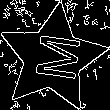M_W: (24, 32, 81, 84)
